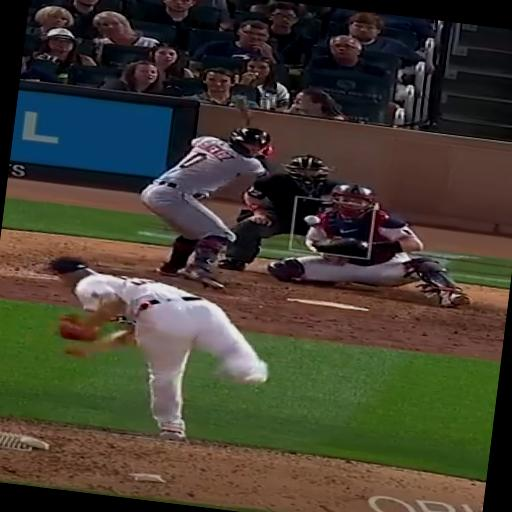bat: (235, 97, 252, 127)
